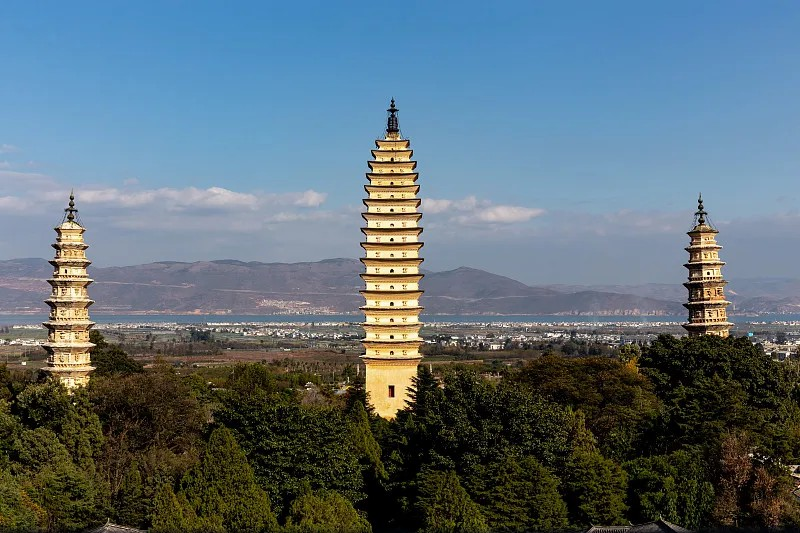ThreePagoda: (359, 94, 425, 421)
